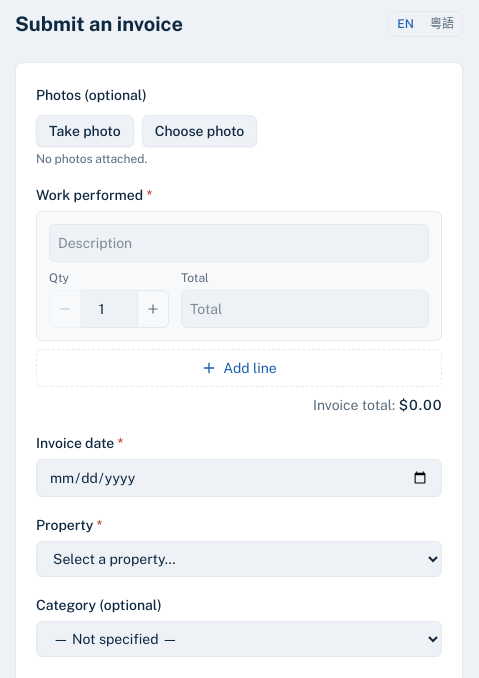
Test case: VendorSubmit › adds a line from the inline plus control
Expected: the number of fields with placeholder "Description" is 1, [49,224,429,262]
Click the button "Add line". click: [239, 368]
box: [36,349,442,387]
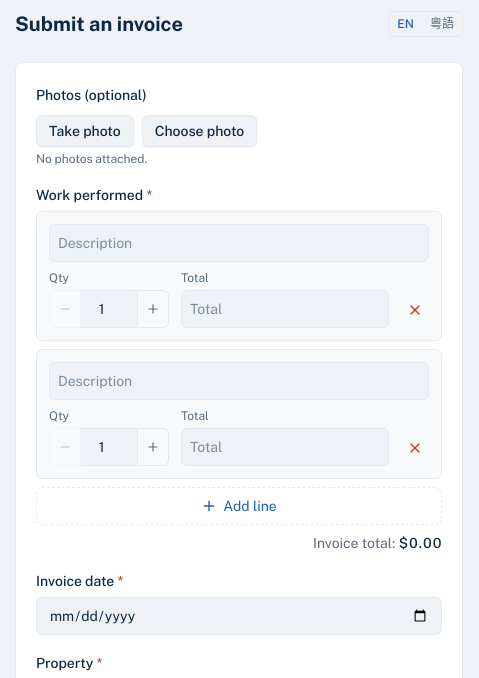
Expected: the number of fields with placeholder "Description" is 2, [49,224,429,262]; [49,362,429,400]
